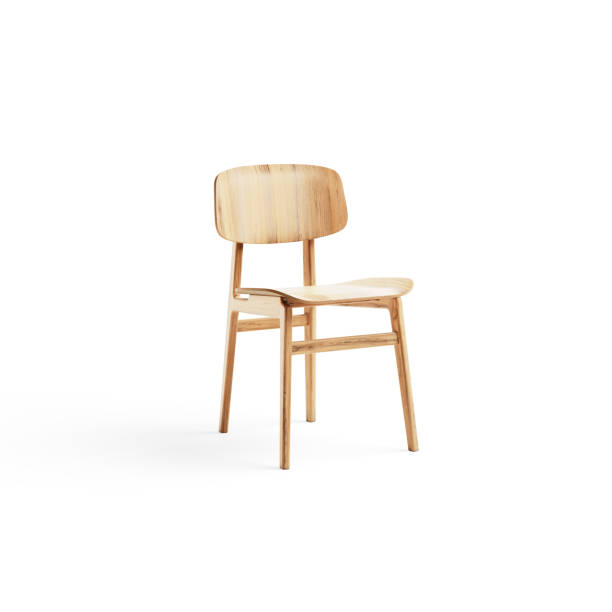Chair: (160, 127, 476, 510)
